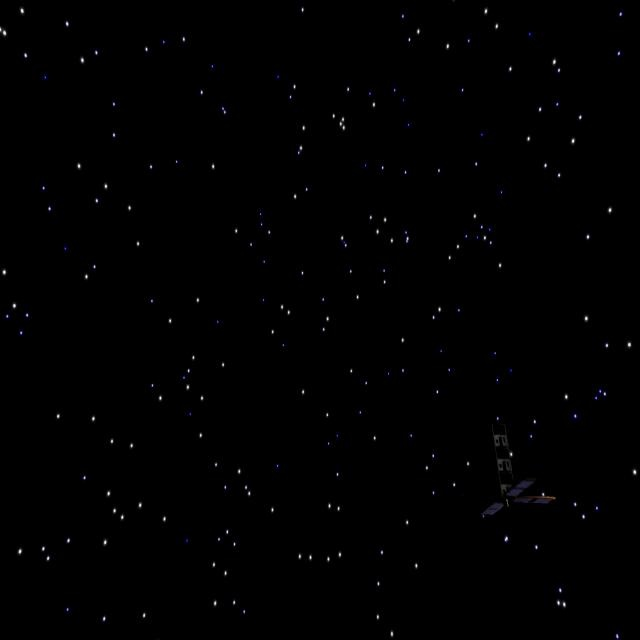satellite: (467, 425, 557, 537)
